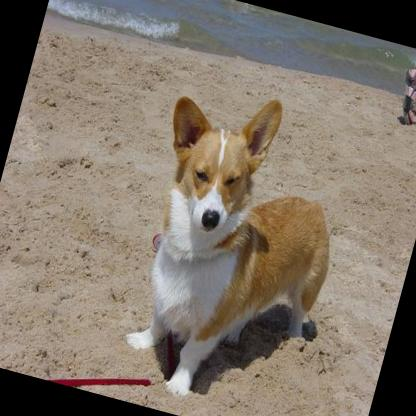Pembroke: (102, 73, 368, 416)
